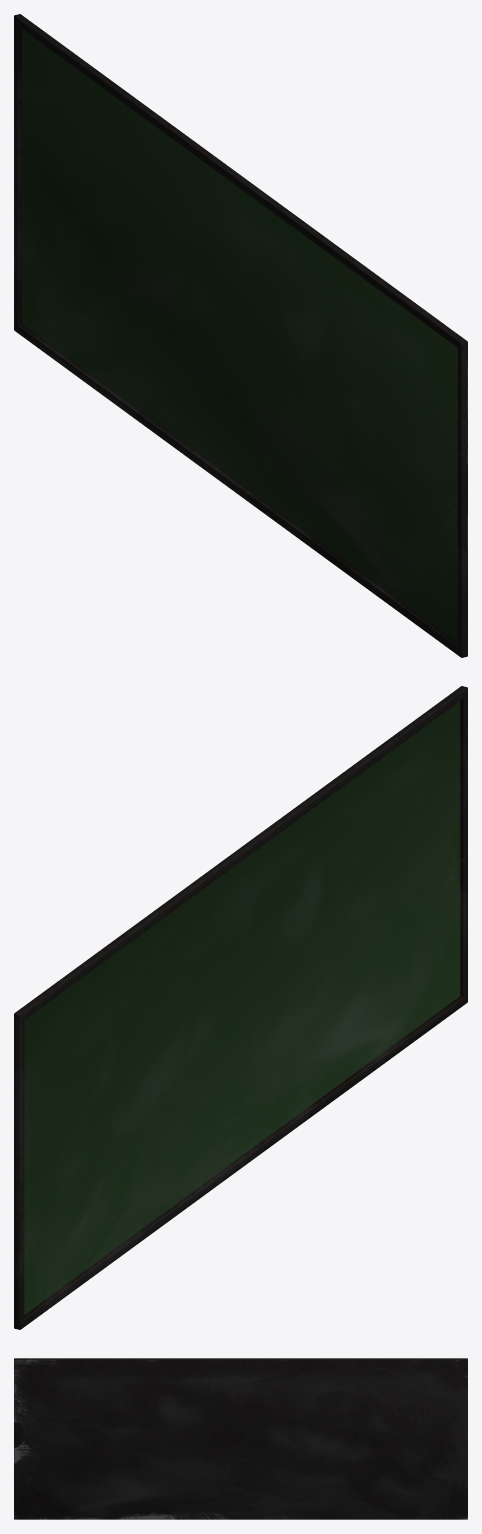
3 renders of one model, top to bottom at view 1: azimuth 30°, elevation 25°; view 2: azimuth 150°, elevation 25°; view 3: azimuth 270°, elevation 25°, orthographic. The views are drawn at different scales.
Visible parts, largest first — view 1: board; view 2: board; view 3: board.
Boxes of the visible parts, x1,y1,x2,y2 form: board: (14, 14, 467, 657); board: (14, 686, 467, 1329); board: (14, 1358, 467, 1519).
Size of the model in its own units: 0.0228 by 1 by 2.57.
Materials: 1 (1 with a texture image).
